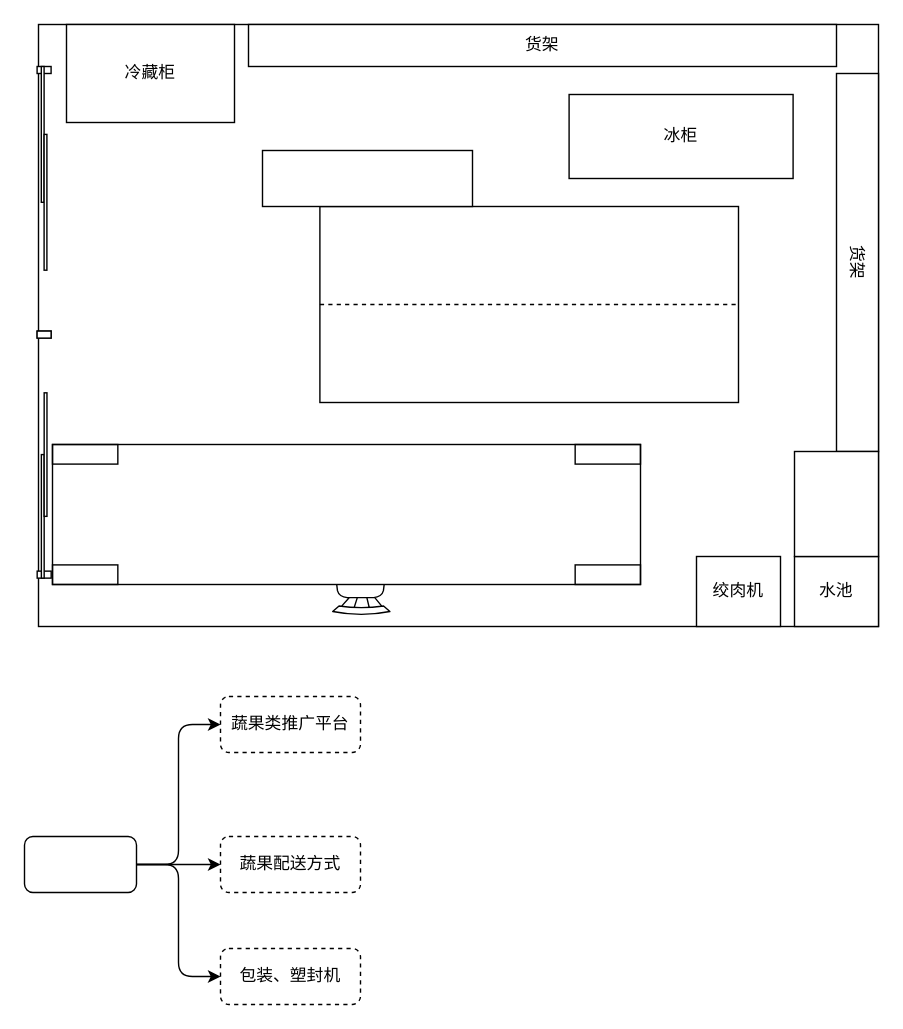
Some shapes in this 903 by 1029 pixel diagram are drawn without their labels. Here are the shapes that lost their labels. From the top down, the centre of each, then its label:
At (x=366, y=177): "收银台".
At (x=528, y=303): "蔬菜堆头架".
At (x=345, y=513): "电脑手机维修工作台".
At (x=835, y=503): "鱼池".
At (x=79, y=863): "送菜到家".
